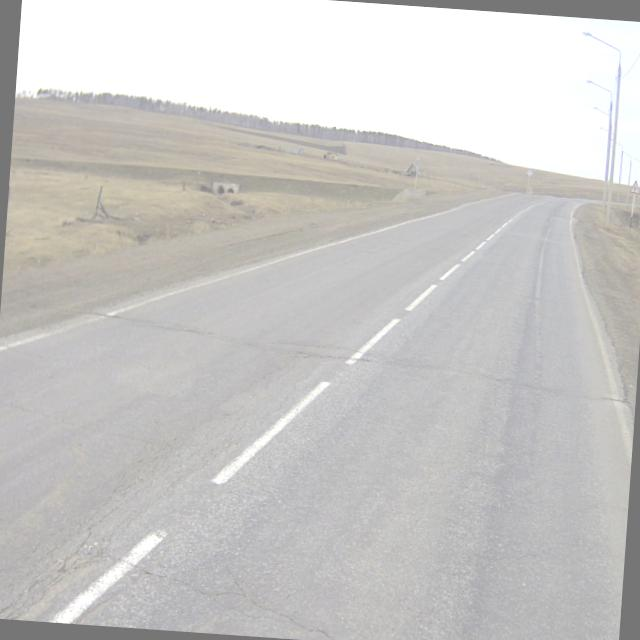road: (0, 194, 633, 640)
